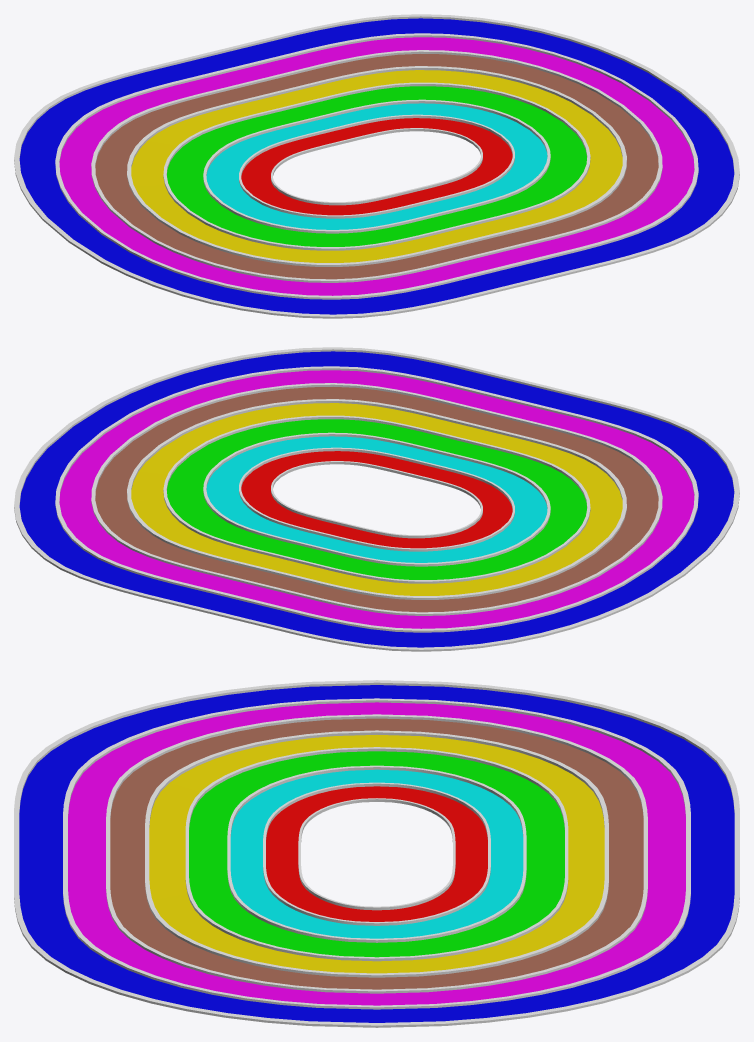
The model's file is san_1.fbx.
3 renders of one model, top to bottom at view 1: azimuth 30°, elevation 25°; view 2: azimuth 150°, elevation 25°; view 3: azimuth 270°, elevation 25°, orthographic. The views are drawn at different scales.
Parts seen in each view (by area): view 1: san_3vong7, san3vong6, san3vong5, san3vong4, san3vong3, san_1_vong3, san3vong1; view 2: san_3vong7, san3vong6, san3vong5, san3vong4, san3vong3, san_1_vong3, san3vong1; view 3: san_3vong7, san3vong6, san3vong5, san3vong4, san3vong3, san_1_vong3, san3vong1.
Boxes of the visible parts, box(x1,y1,x2,y2) form: san_3vong7: box(14, 14, 739, 318); san3vong6: box(55, 33, 698, 299); san3vong5: box(91, 50, 662, 282); san3vong4: box(127, 66, 626, 266); san3vong3: box(163, 82, 590, 250); san_1_vong3: box(203, 99, 550, 233); san3vong1: box(239, 114, 514, 218); san_3vong7: box(14, 347, 739, 651); san3vong6: box(55, 366, 698, 632); san3vong5: box(91, 383, 662, 615); san3vong4: box(127, 399, 626, 599); san3vong3: box(163, 415, 590, 583); san_1_vong3: box(203, 432, 550, 566); san3vong1: box(239, 447, 514, 551); san_3vong7: box(14, 680, 739, 1027); san3vong6: box(63, 698, 690, 1009); san3vong5: box(106, 714, 647, 993); san3vong4: box(145, 730, 608, 977); san3vong3: box(185, 747, 568, 961); san_1_vong3: box(227, 765, 526, 942); san3vong1: box(263, 782, 490, 925).
Size of the model in its own units: 81.54 by 0.3018 by 72.41.
